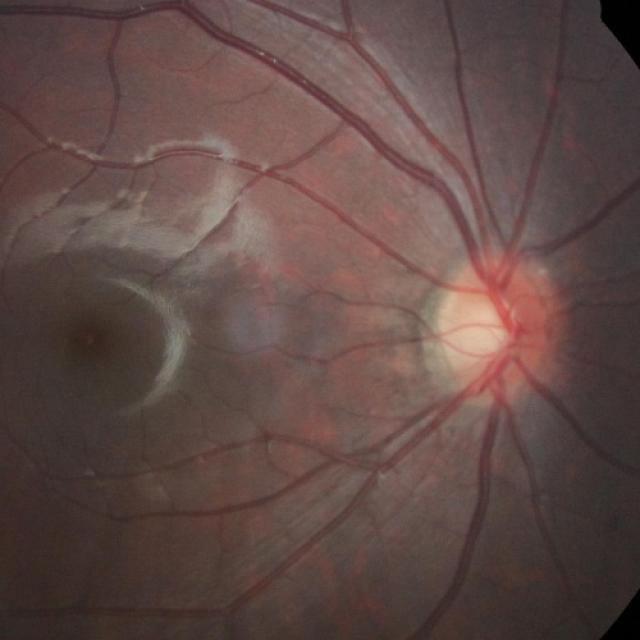OC: (461, 299, 515, 353)
OD: (438, 258, 554, 400)
